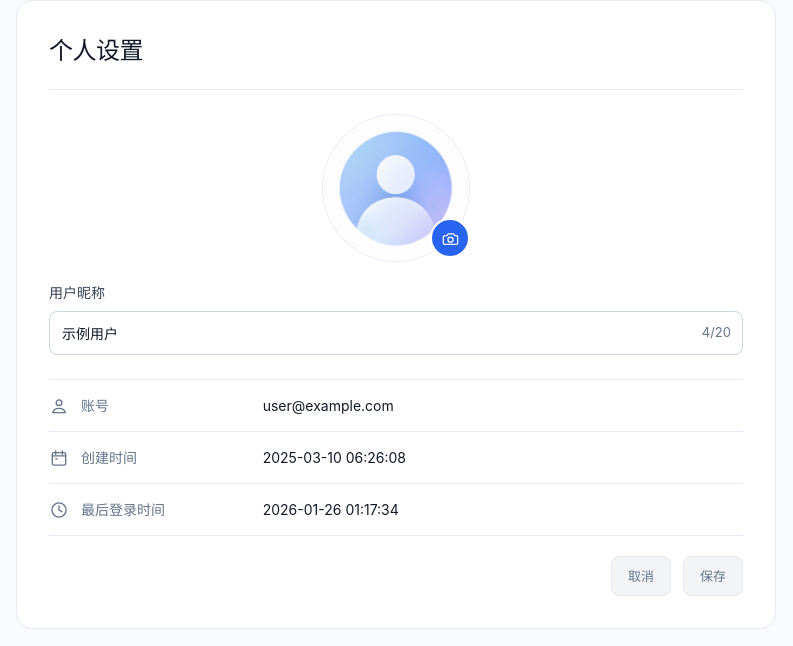
Test: ProfileSettingsPage › keeps edits available and shows an error if saving fails
Check: the heading "个人设置" is shown, box left=49, top=36, right=143, bottom=65
Replace the text in the field labelled "用户昵称" with "待保存昵称" at (396, 333), box left=49, top=311, right=743, bottom=355
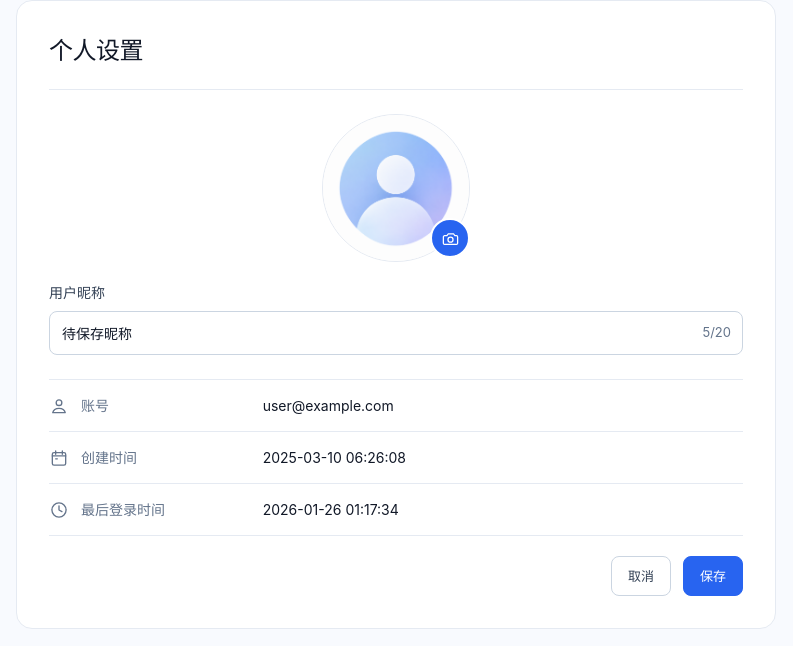
Click the button "保存".
click(713, 576)  # box left=683, top=556, right=743, bottom=596
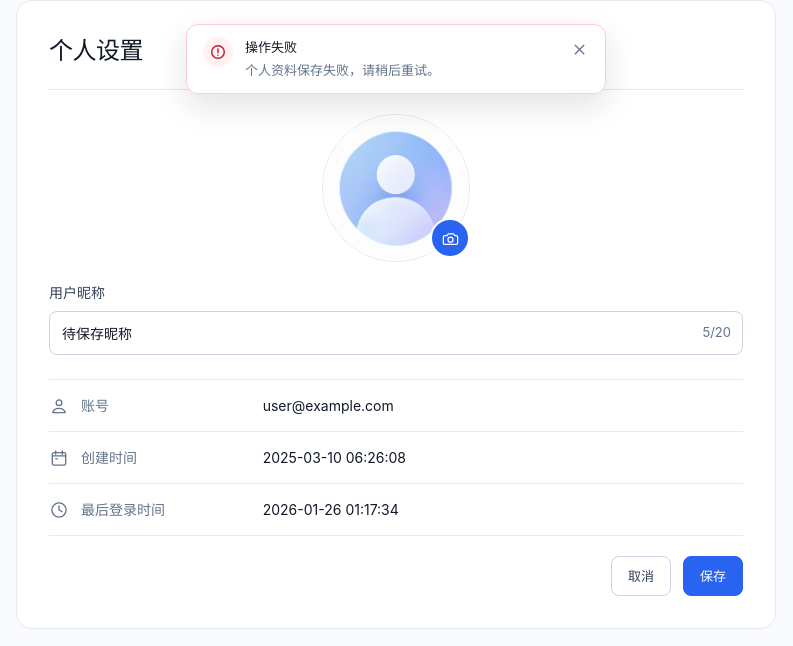
Check: the message shows "个人资料保存失败，请稍后重试。", box left=245, top=62, right=440, bottom=78
